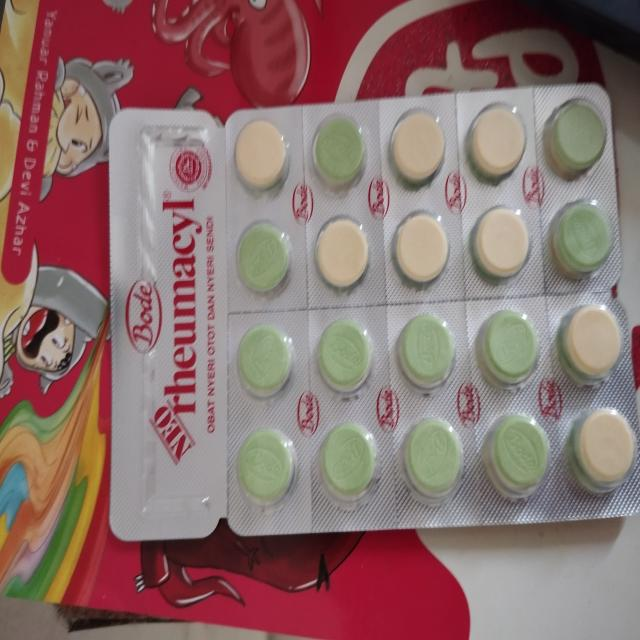B3: (107, 82, 640, 538)
